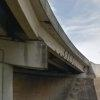Bridge: (14, 2, 95, 84)
